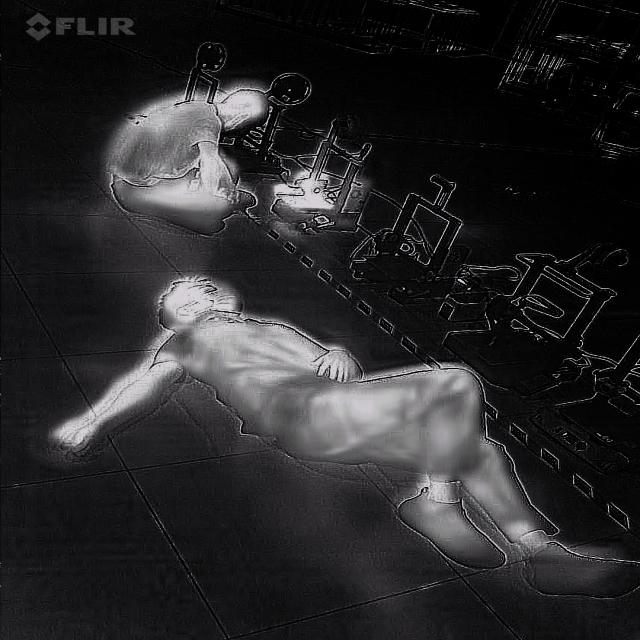Victim: (37, 267, 637, 605), (106, 85, 274, 240)
